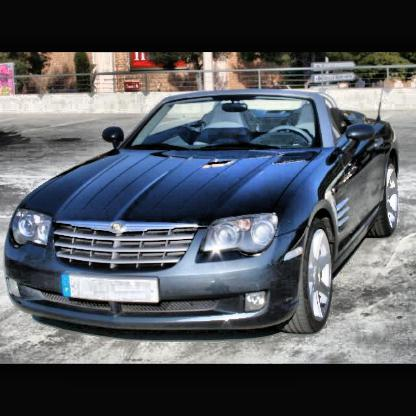Chrysler Crossfire Convertible 2008: (9, 93, 400, 343)
